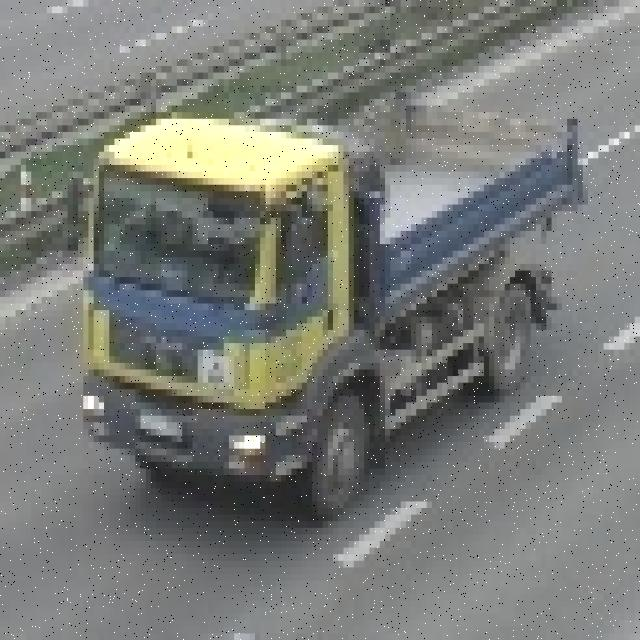truck: (62, 86, 578, 514)
